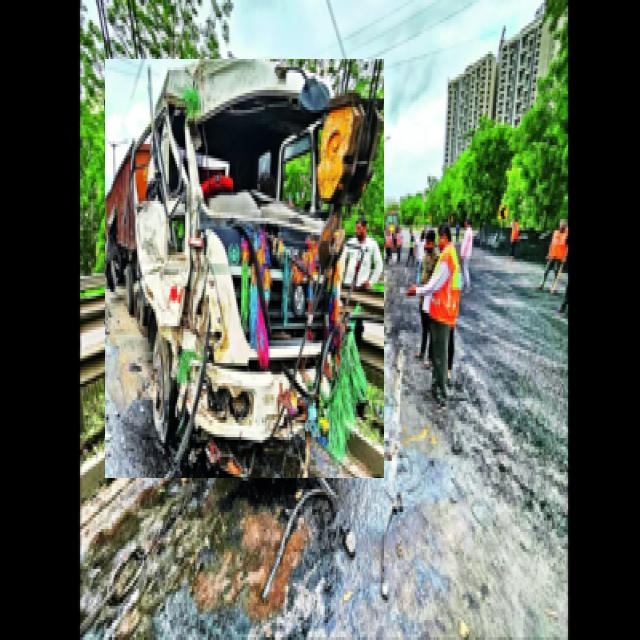accident: (105, 60, 384, 478)
